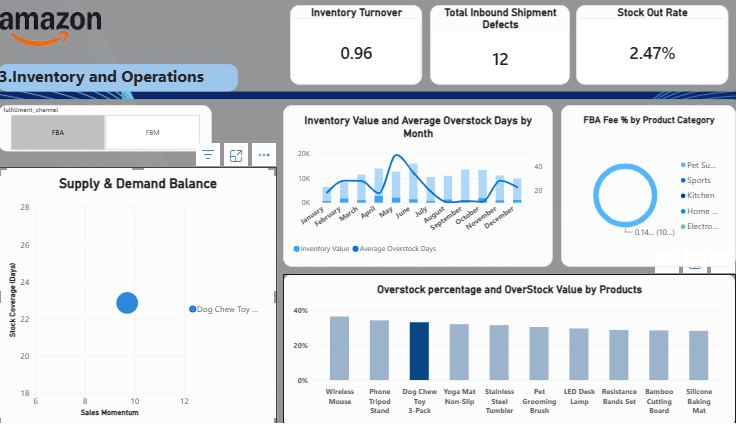

The dashboard page shown, as its layout file describes it:
{"tool":"powerbi","page":{"name":"Inventory","canvas":[1280,720],"ordinal":2},"visuals":[{"type":"textbox","box":[10.3,169,1259.3,551],"z":0},{"type":"textbox","box":[10.3,0,1259.3,157.2],"z":1000},{"type":"cardVisual","title":"Stock Out Rate","fields":{"Data":["inventory_daily.Stock Out Rate"]},"box":[991.8,11.8,255.7,133.7],"z":2000},{"type":"textbox","box":[20.6,111.7,402.6,45.6],"z":3000},{"type":"cardVisual","title":"Inventory Turnover","fields":{"Data":["inventory_daily.Inventory Turnover (Annualized)"]},"box":[511.3,11.8,221.9,133.7],"z":4000},{"type":"lineClusteredColumnComboChart","fields":{"Y":["inventory_daily.Inventory Value"],"Category":["inventory_daily.date.Variation.Date Hierarchy.Month"],"Y2":["inventory_daily.Average Overstock Days"]},"box":[499.6,179.3,452.6,271.8],"z":5000},{"type":"cardVisual","title":"Total Inbound Shipment Defects","fields":{"Data":["Sum(inventory_daily.inbound_shipment_defects)"]},"box":[746.4,11.8,235.1,133.7],"z":6000},{"type":"columnChart","fields":{"Category":["sku_catalog.Products"],"Y":["inventory_daily.Overstock percentage"]},"box":[499.6,462.9,759.7,257.1],"z":7000},{"type":"scatterChart","title":"Supply & Demand Balance","fields":{"X":["orders.Daily Velocity (30D)"],"Y":["orders.Days of Cover"],"Series":["sku_catalog.Products"],"Size":["orders.Gross Revenue"]},"box":[20.6,283.6,468.7,436.4],"z":8000},{"type":"slicer","fields":{"Values":["orders.fulfillment_channel"]},"box":[20.6,179.3,358.5,77.9],"z":9000},{"type":"donutChart","fields":{"Category":["sku_catalog.Product Category"],"Y":["inventory_daily.FBA Fee %"]},"box":[965.4,179.3,293.9,271.8],"z":10000},{"type":"image","box":[17.6,0,182.2,111.7],"z":11000}]}

Visuals, with their boxes on the page's 1280x720 design canvas (x1, y1, x2, y2). These are canvas units, not pixel positions in the 736x445 screenshot, which may show the page scaled, cropped or inside an application window:
textbox: pyautogui.locateOnScreen(10, 169, 1270, 720)
textbox: pyautogui.locateOnScreen(10, 0, 1270, 157)
"Stock Out Rate" cardVisual: pyautogui.locateOnScreen(992, 12, 1248, 146)
textbox: pyautogui.locateOnScreen(21, 112, 423, 157)
"Inventory Turnover" cardVisual: pyautogui.locateOnScreen(511, 12, 733, 146)
lineClusteredColumnComboChart - inventory_daily.Inventory Value x inventory_daily.date.Variation.Date Hierarchy.Month: pyautogui.locateOnScreen(500, 179, 952, 451)
"Total Inbound Shipment Defects" cardVisual: pyautogui.locateOnScreen(746, 12, 982, 146)
columnChart - sku_catalog.Products x inventory_daily.Overstock percentage: pyautogui.locateOnScreen(500, 463, 1259, 720)
"Supply & Demand Balance" scatterChart: pyautogui.locateOnScreen(21, 284, 489, 720)
slicer - orders.fulfillment_channel: pyautogui.locateOnScreen(21, 179, 379, 257)
donutChart - sku_catalog.Product Category x inventory_daily.FBA Fee %: pyautogui.locateOnScreen(965, 179, 1259, 451)
image: pyautogui.locateOnScreen(18, 0, 200, 112)
